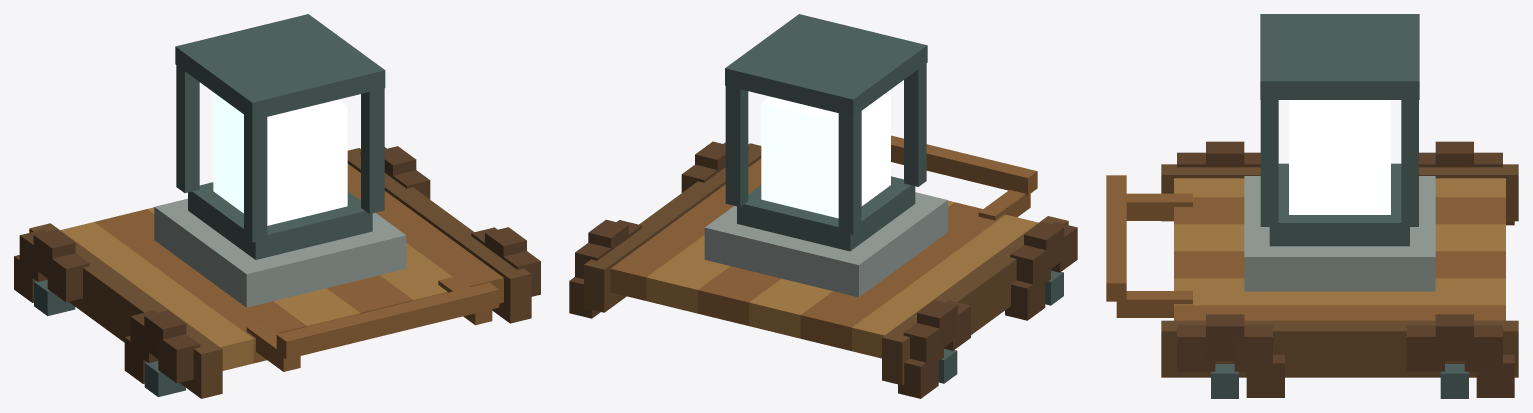
Rendered from cart_purified.glb.
3 renders of one model, left to right at view 1: azimuth 30°, elevation 25°; view 2: azimuth 150°, elevation 25°; view 3: azimuth 270°, elevation 25°, orthographic. The views are drawn at different scales.
Parts seen in each view (by area): view 1: cart_blocks; view 2: cart_blocks; view 3: cart_blocks.
Boxes of the visible parts, box(x1,y1,x2,y2) form: cart_blocks: box(14, 14, 540, 398); cart_blocks: box(569, 14, 1077, 398); cart_blocks: box(1106, 14, 1518, 398).
Bounding box in the file's own units: 3.46 × 2.23 × 3.23.
